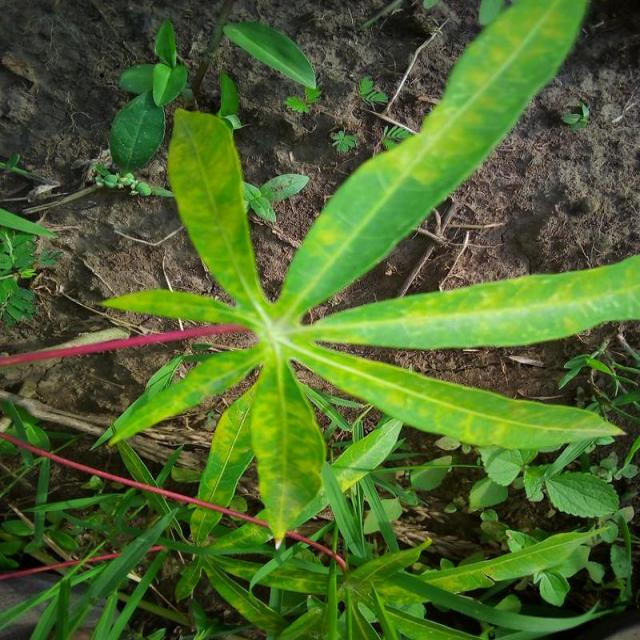Mosaico: (147, 100, 561, 490)
